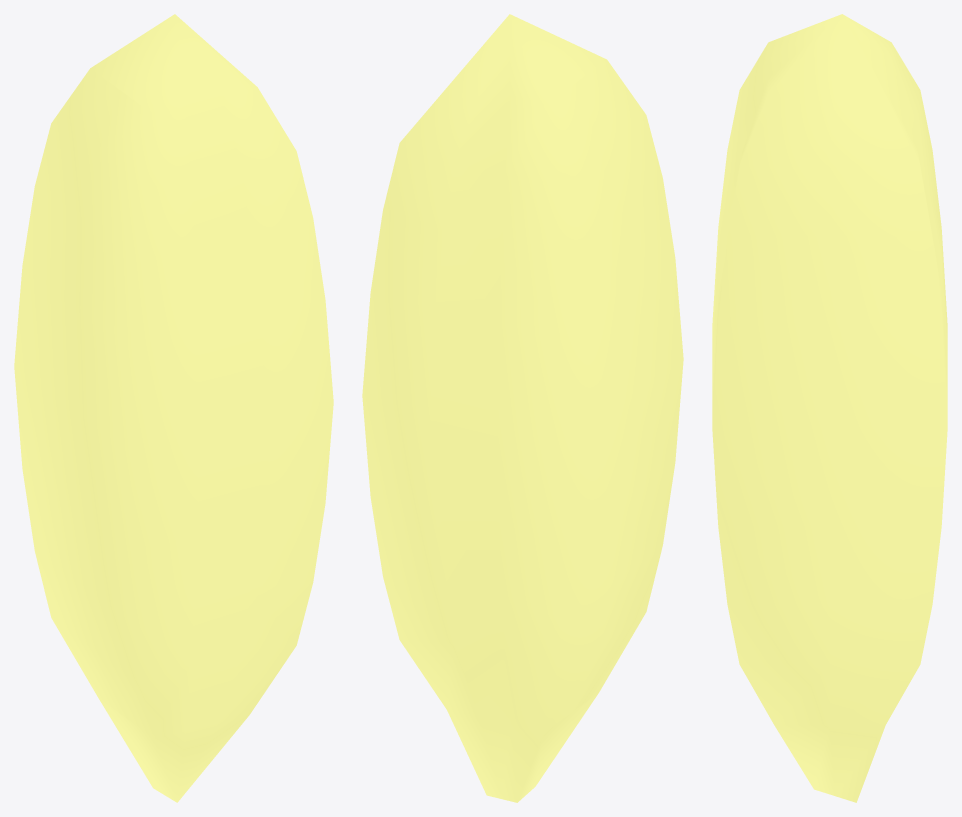
File: shield geo core.fbx
3 renders of one model, left to right at view 1: azimuth 30°, elevation 25°; view 2: azimuth 150°, elevation 25°; view 3: azimuth 270°, elevation 25°, orthographic.
Visible parts, largest first — view 1: shield geo core; view 2: shield geo core; view 3: shield geo core.
Part boxes in pixels (<box>): shield geo core: <box>14,14,333,802</box>; shield geo core: <box>362,14,683,802</box>; shield geo core: <box>712,14,947,802</box>.
Bounding box in the file's own units: 0.5263 × 0.5263 × 1.93.
